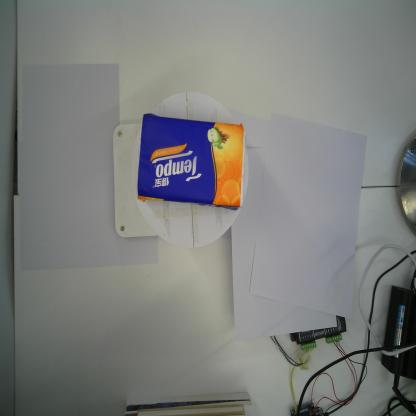Tissue: (137, 112, 246, 210)
